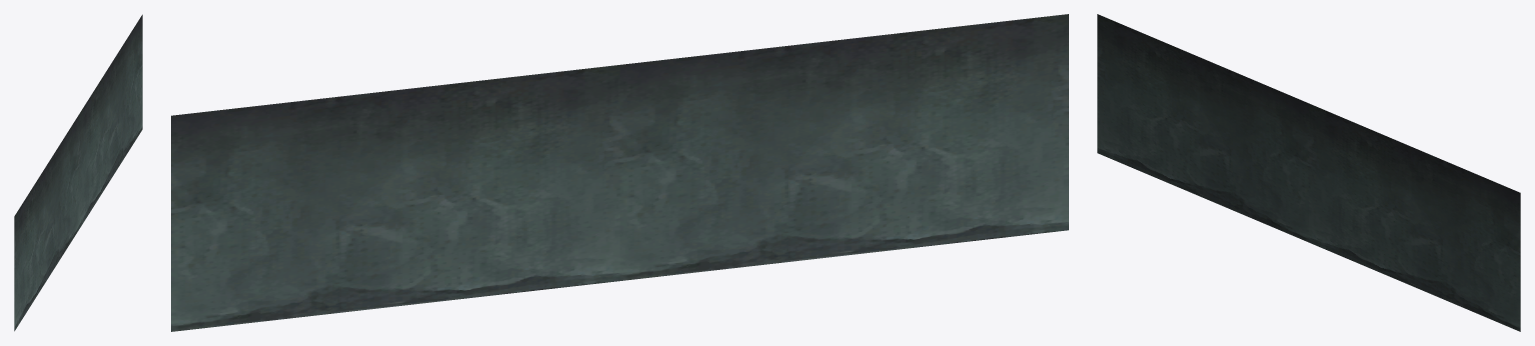
The model's file is crypt_quarter_diagnol_01.fbx.
The picture shows the model from 3 angles, left to right: view 1: azimuth 30°, elevation 25°; view 2: azimuth 150°, elevation 25°; view 3: azimuth 270°, elevation 25°; orthographic projection. The views are drawn at different scales.
Visible parts, largest first — view 1: crypt_tileset/crypt_wall03; view 2: crypt_tileset/crypt_wall03; view 3: crypt_tileset/crypt_wall03.
Boxes of the visible parts, box(x1,y1,x2,y2) form: crypt_tileset/crypt_wall03: box(14, 14, 142, 331); crypt_tileset/crypt_wall03: box(171, 14, 1068, 331); crypt_tileset/crypt_wall03: box(1097, 14, 1520, 331).
Size of the model in its own units: 3.79 by 1.38 by 3.79.
